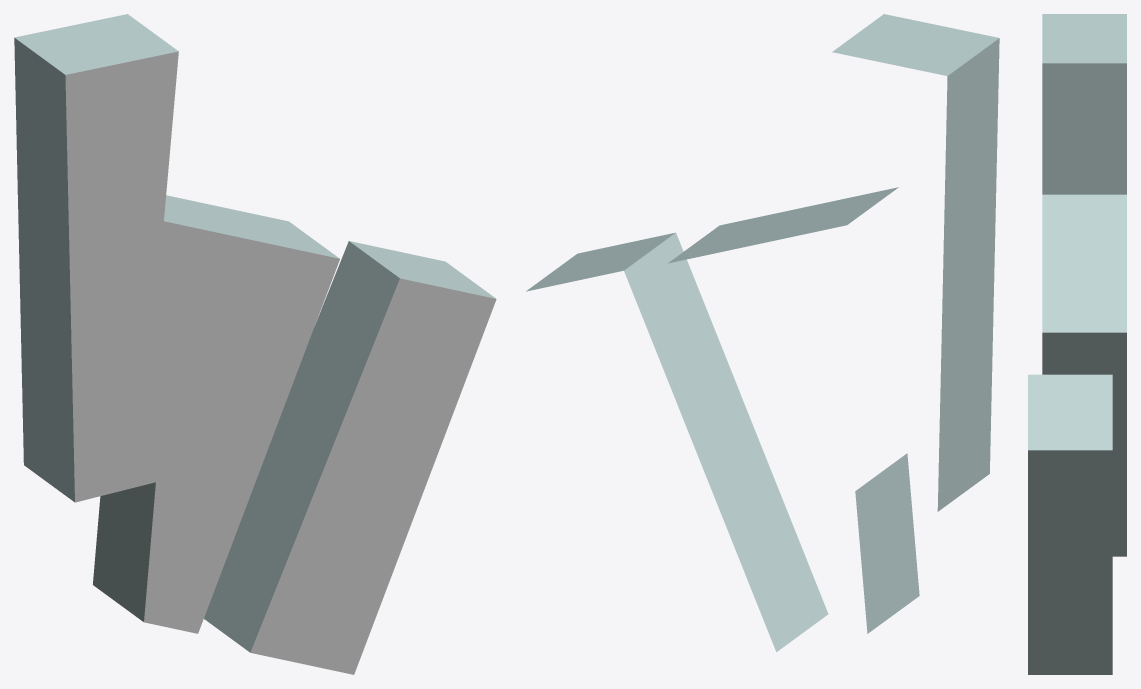
3 renders of one model, left to right at view 1: azimuth 30°, elevation 25°; view 2: azimuth 150°, elevation 25°; view 3: azimuth 270°, elevation 25°, orthographic. The views are drawn at different scales.
Parts seen in each view (by area): view 1: 0_3_2_1_2_0_1_2_0; view 2: 0_3_2_1_2_0_1_2_0; view 3: 0_3_2_1_2_0_1_2_0.
Boxes of the visible parts, x1,y1,x2,y2 form: 0_3_2_1_2_0_1_2_0: (14, 14, 496, 674); 0_3_2_1_2_0_1_2_0: (526, 14, 999, 651); 0_3_2_1_2_0_1_2_0: (1028, 14, 1126, 674).
Size of the model in its own units: 14.31 by 21.42 by 3.5.
